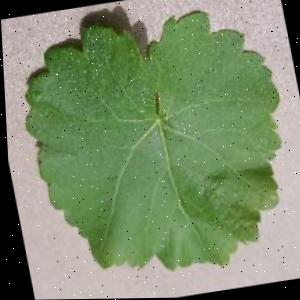Folha: (5, 0, 300, 295)
